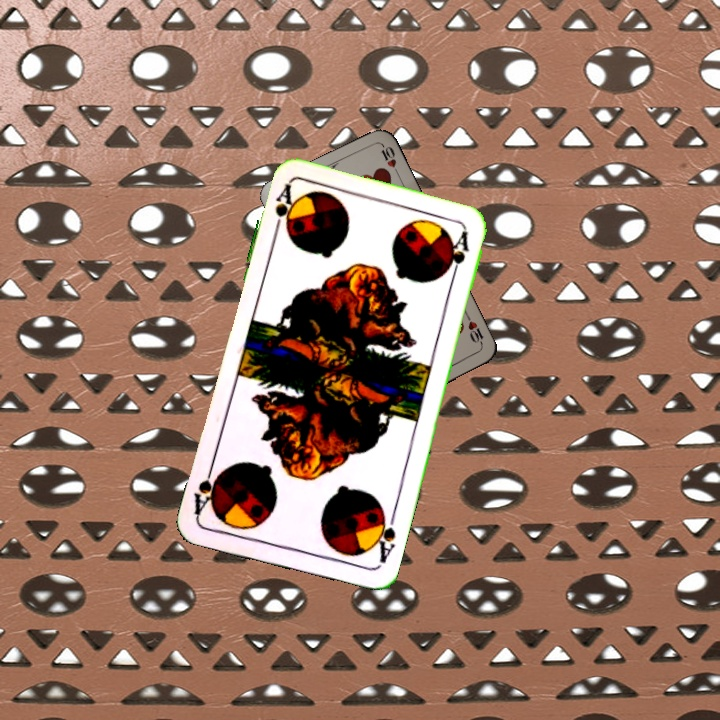H10: (462, 311, 486, 349)
SA: (368, 507, 398, 568), (269, 180, 299, 239)
